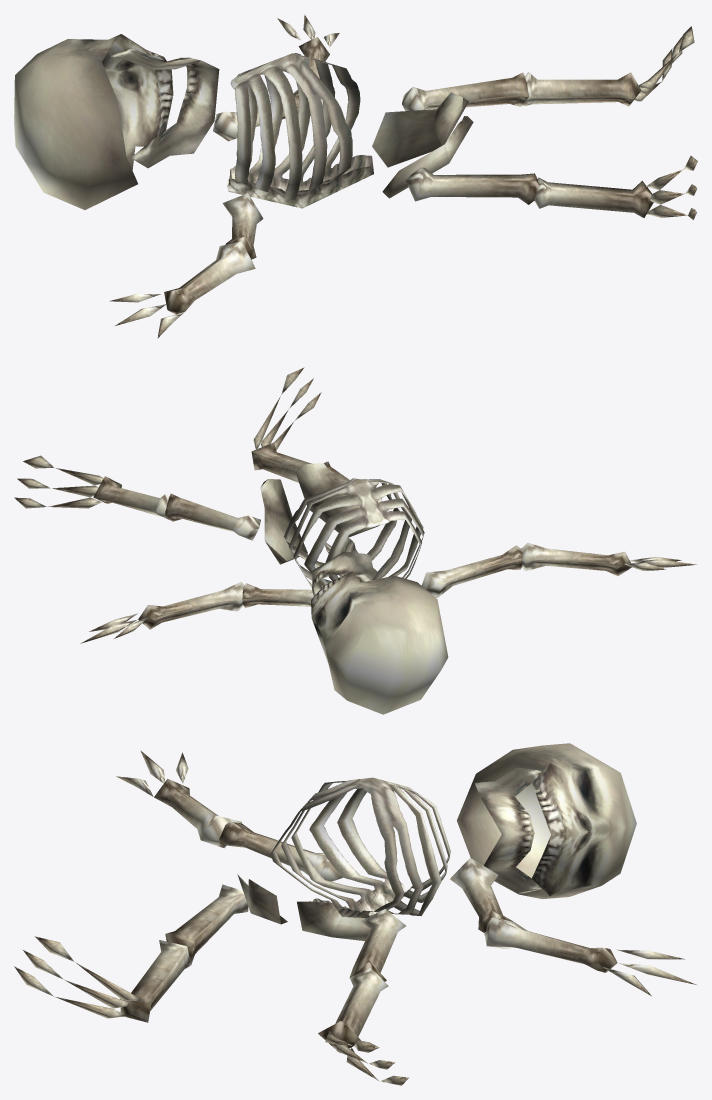
File: gnomemaledeathskeleton.obj
3 renders of one model, top to bottom at view 1: azimuth 30°, elevation 25°; view 2: azimuth 150°, elevation 25°; view 3: azimuth 270°, elevation 25°, orthographic. The views are drawn at different scales.
Parts seen in each view (by area): view 1: gnomemaledeathskeleton; view 2: gnomemaledeathskeleton; view 3: gnomemaledeathskeleton.
Boxes of the visible parts, left/top/right/bottom form: gnomemaledeathskeleton: left=14, top=14, right=697, bottom=338; gnomemaledeathskeleton: left=14, top=367, right=696, bottom=714; gnomemaledeathskeleton: left=14, top=743, right=696, bottom=1085.
Size of the model in its own units: 1.14 by 0.2807 by 0.9722.
1 material, 1 textured.
